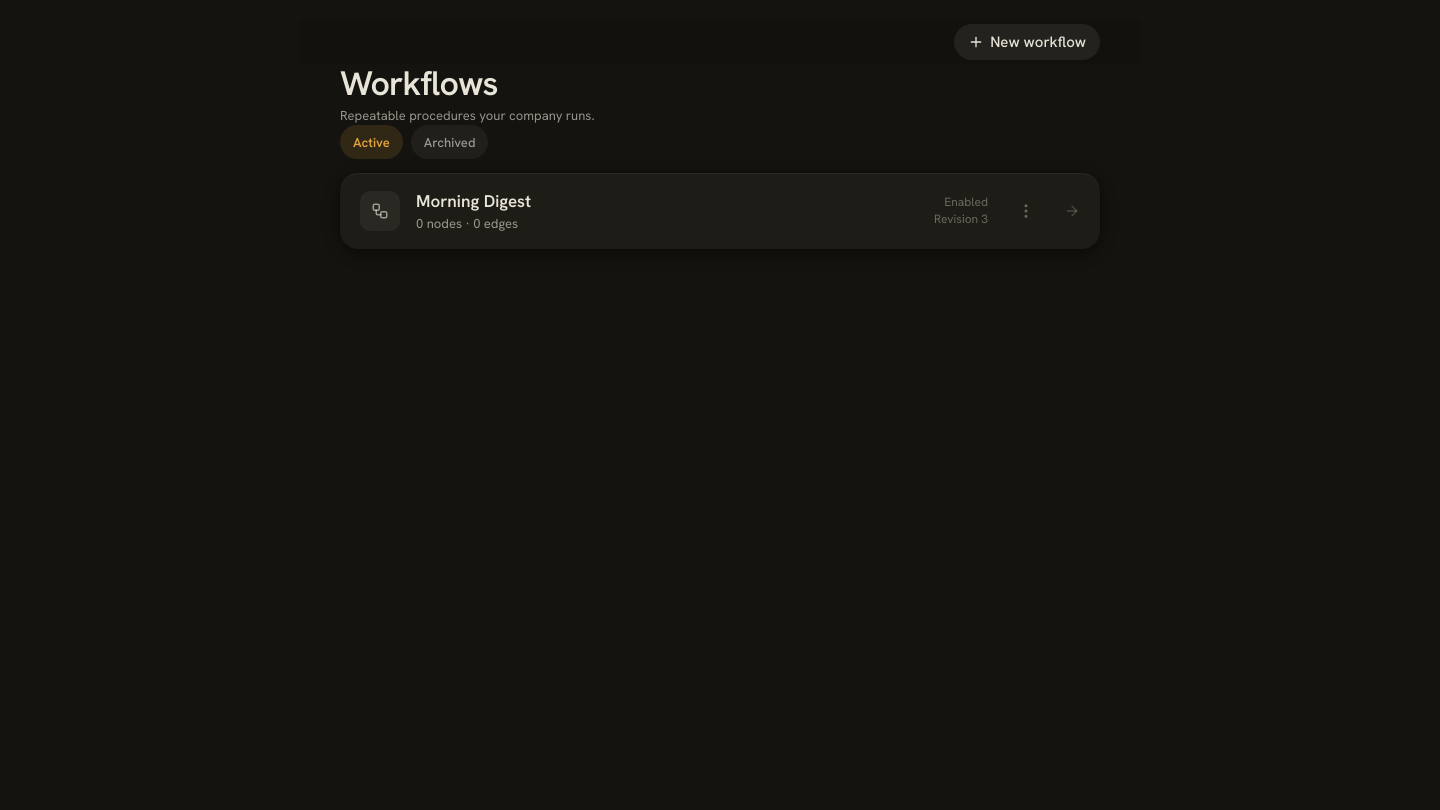
it: workflow list lifecycle menu › shows an ID collision inside the duplicate dialog instead of failing silently
Click the button named "Workflow actions for Morning Digest" at (1026, 211), box [1004,189,1048,233]
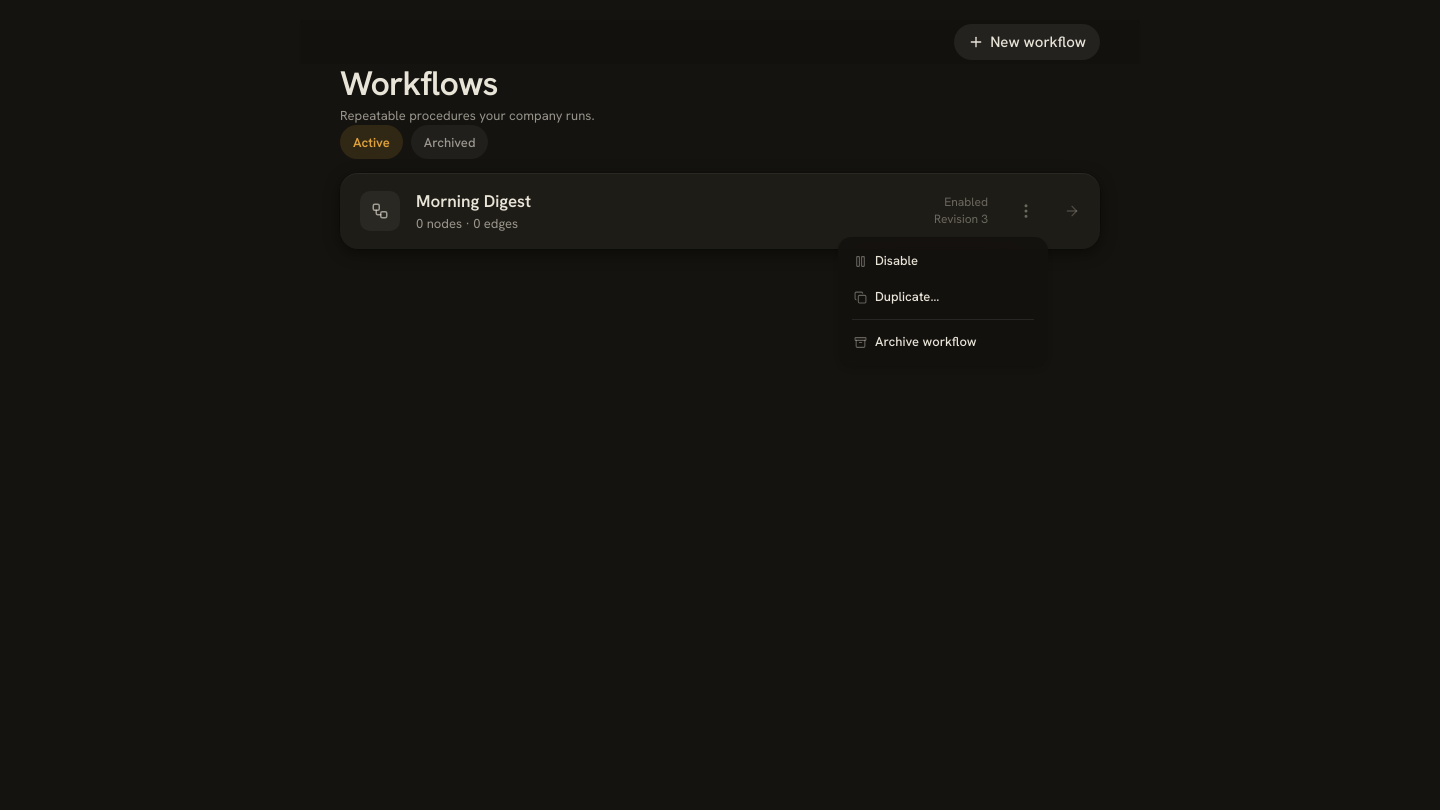
Click the menu item "Duplicate…" at (897, 297), box [854,288,939,305]
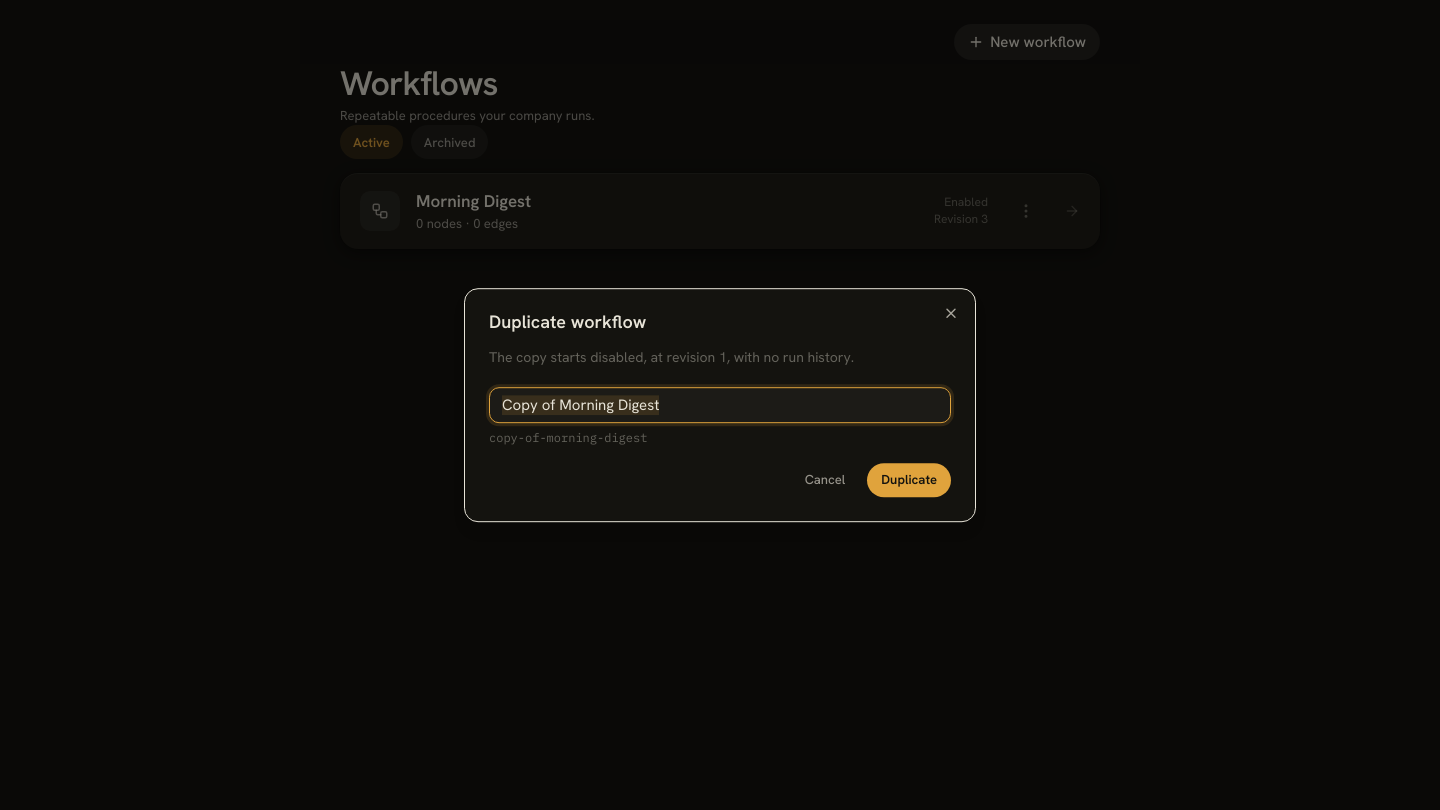
Click the button "Duplicate" at (909, 480), box [867,463,951,497]
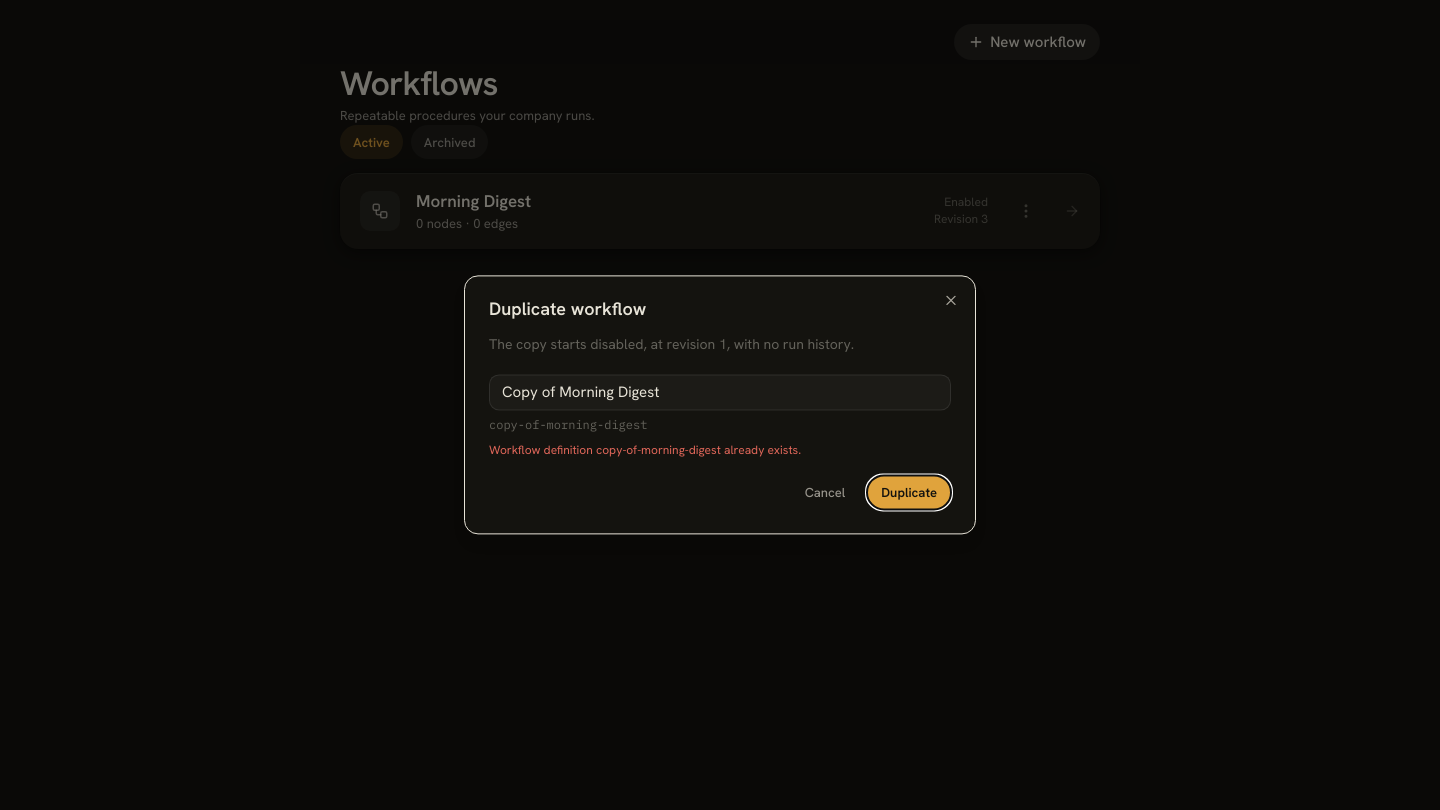
Expected: the message shows "already exists", [489,442,801,458]
